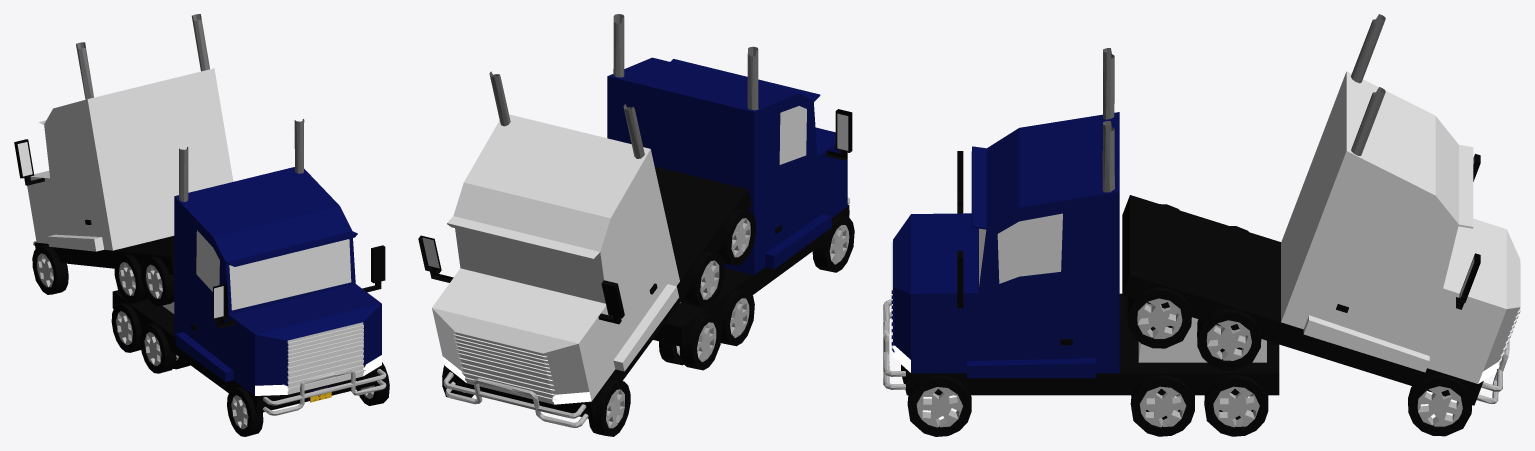
File: Semi Truck Carrying Truck.glb
3 views of the same model, side by side, from view 1: azimuth 30°, elevation 25°; view 2: azimuth 150°, elevation 25°; view 3: azimuth 270°, elevation 25° (orthographic). The views are drawn at different scales.
Parts seen in each view (by area): view 1: Cabin, 2nd Truck, Bed - Front, Rear Tires, Front Tires, Cattleguards, Exhausts; view 2: 2nd Truck, Cabin, Rear Tires, Bed - Front, Front Tires, Exhausts; view 3: 2nd Truck, Cabin, Bed - Front, Rear Tires, Front Tires, Exhausts, Cattleguards.
Boxes of the visible parts, bbox=[...] form: Cabin: bbox=[174, 167, 385, 395]; 2nd Truck: bbox=[14, 14, 233, 313]; Bed - Front: bbox=[112, 290, 383, 413]; Rear Tires: bbox=[111, 303, 189, 373]; Front Tires: bbox=[227, 362, 389, 436]; Cattleguards: bbox=[263, 368, 386, 415]; Exhausts: bbox=[179, 119, 304, 201]; 2nd Truck: bbox=[418, 71, 755, 436]; Cabin: bbox=[607, 57, 852, 274]; Rear Tires: bbox=[659, 288, 754, 370]; Bed - Front: bbox=[653, 205, 849, 346]; Front Tires: bbox=[812, 215, 854, 272]; Exhausts: bbox=[613, 14, 758, 110]; 2nd Truck: bbox=[1122, 14, 1520, 436]; Cabin: bbox=[891, 112, 1119, 378]; Bed - Front: bbox=[901, 293, 1279, 395]; Rear Tires: bbox=[1130, 375, 1268, 436]; Front Tires: bbox=[907, 375, 971, 436]; Exhausts: bbox=[1102, 48, 1114, 192]; Cattleguards: bbox=[883, 299, 905, 389].
Bounding box in the file's own units: 3.27 × 4.82 × 8.16.
